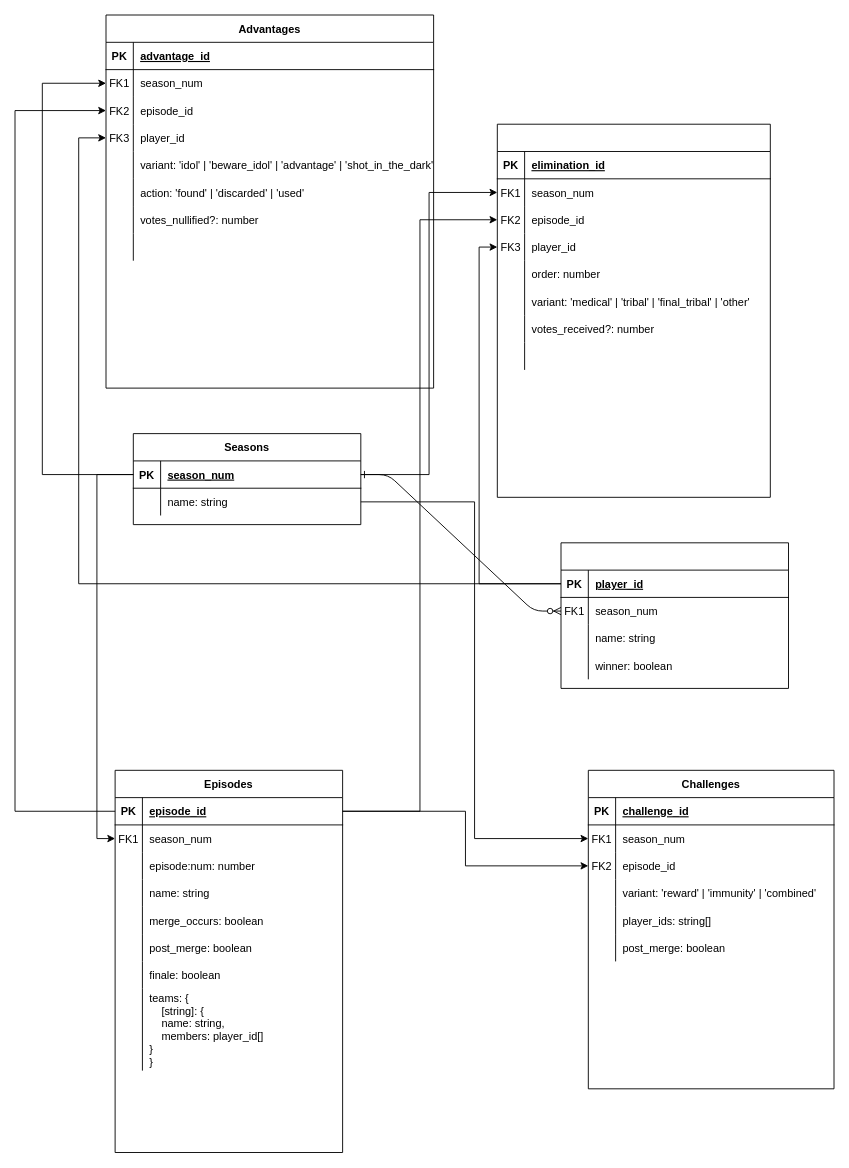
Some shapes in this 849 by 1168 pixel diagram are drawn without their labels. Each missing label, with the box of its shape:
Eliminations: (496, 123, 770, 497)
Players: (560, 542, 789, 688)
